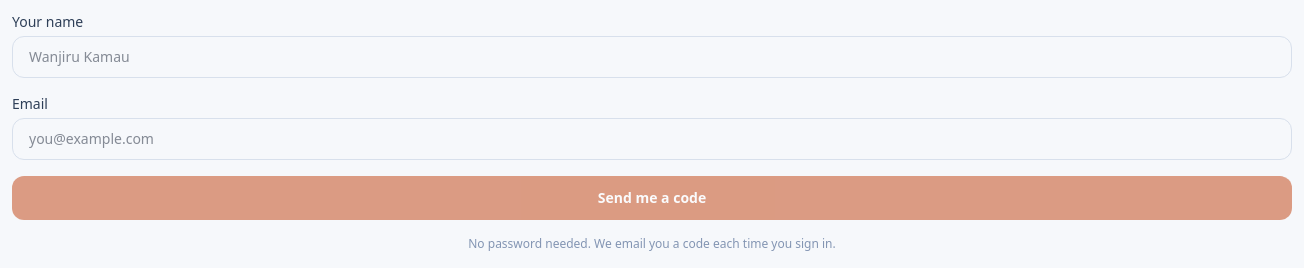
it: JoinForm › takes a name and one identifier, and needs the identifier to proceed
Expected: the field labelled "Your name" is shown, [12,36,1292,78]
Expected: the button "Send me a code" is disabled, [12,176,1292,220]
Step 1. Type "ada@example.com" into the field labelled "Email" → (652, 139), box [12,118,1292,160]
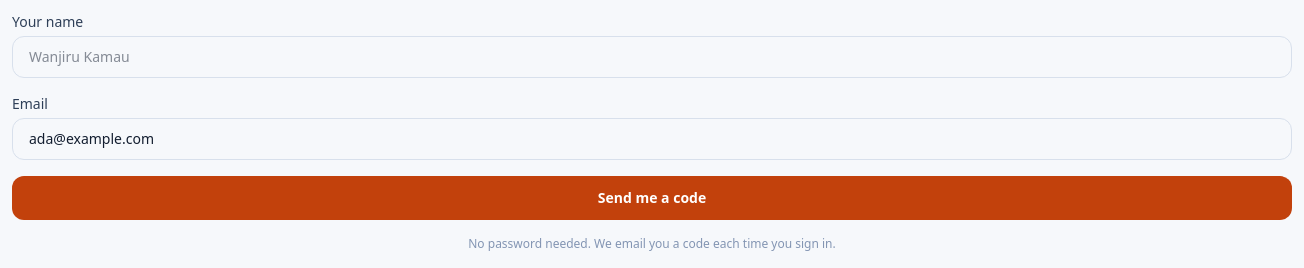
Now the button "Send me a code" is enabled, box [12,176,1292,220]
